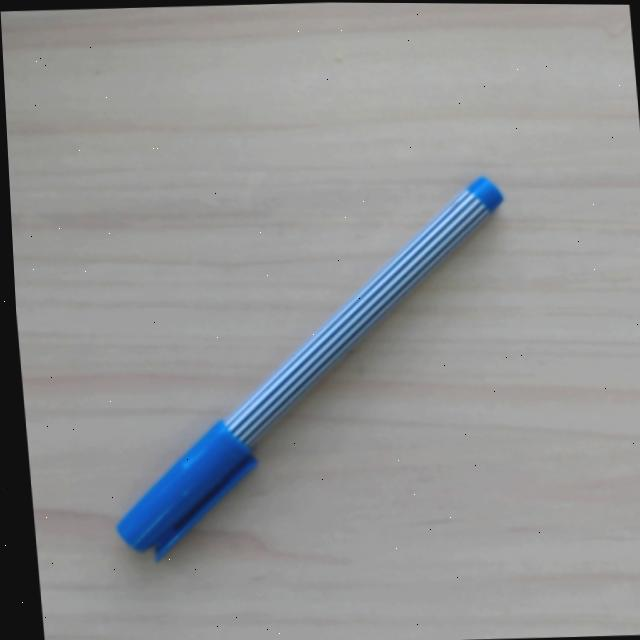Pulpen-Garis-Biru: (111, 166, 516, 568)
